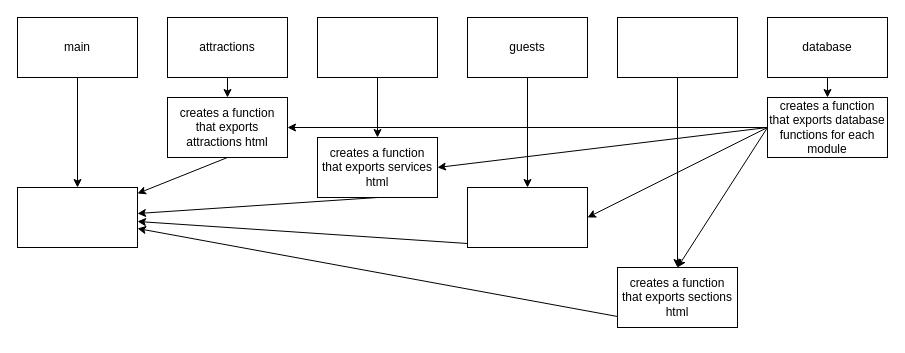
Some shapes in this 905 by 353 pixel diagram are drawn without their labels. Here are the shapes that lost their labels. From the top down, the centre of each, then its label:
At (x=377, y=47): "services".
At (x=677, y=47): "sections".
At (x=77, y=217): "creates a render function to house and invoke the imported functions".
At (x=527, y=217): "creates a function that exports guests html".
